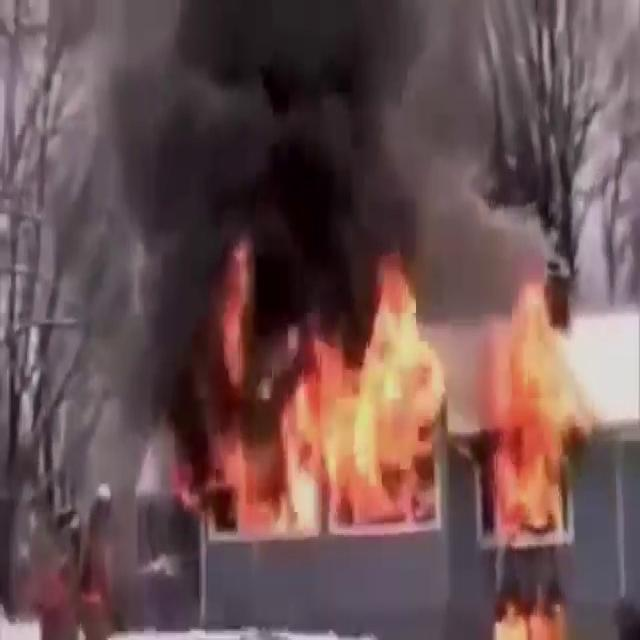Fire: (206, 245, 596, 555)
Smoke: (81, 0, 575, 400)
